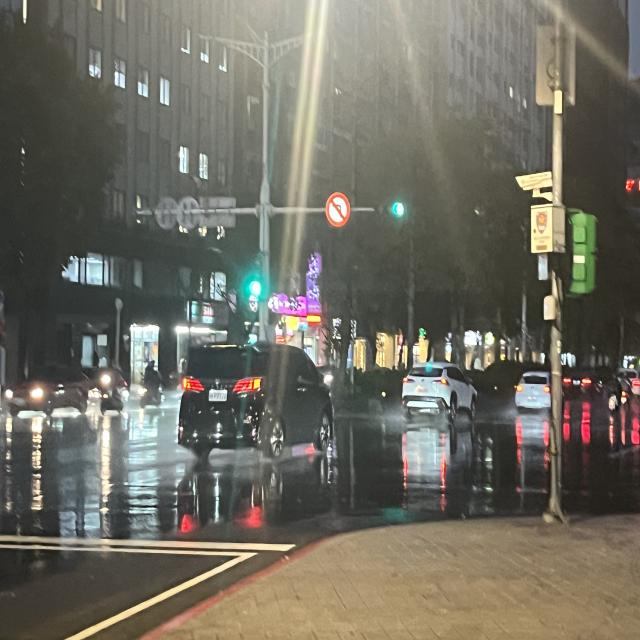green light: (248, 252, 266, 299), (374, 202, 407, 220)
